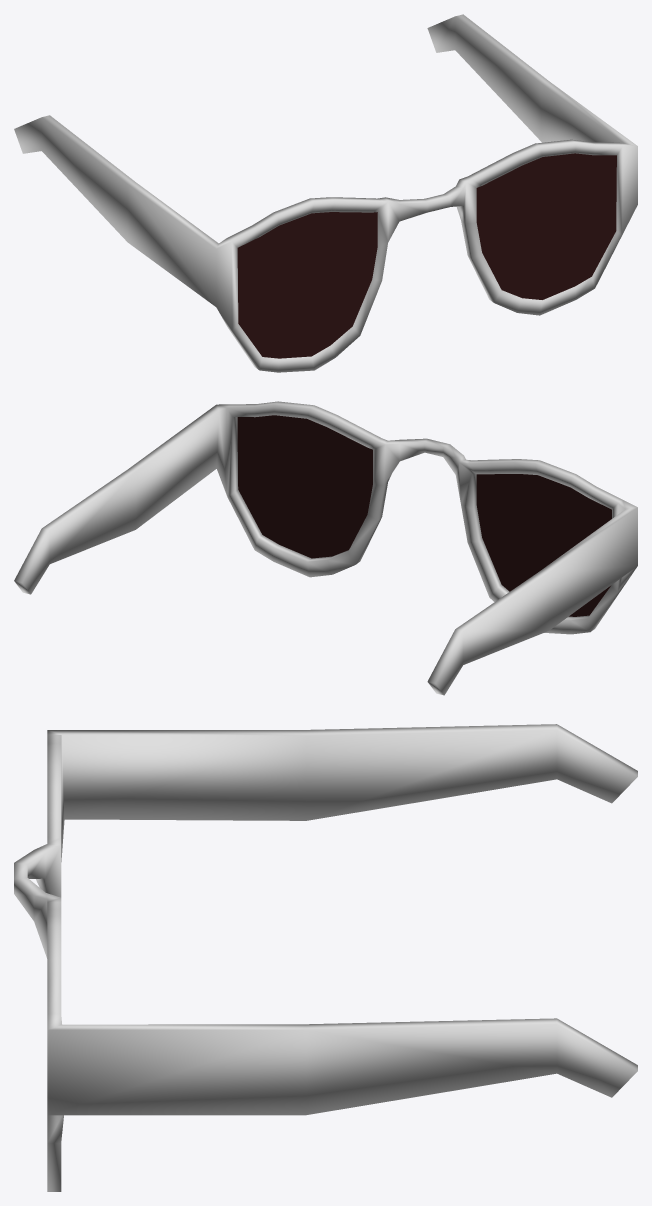
Rendered from SM_MercadonaGlasses_00.fbx.
3 renders of one model, top to bottom at view 1: azimuth 30°, elevation 25°; view 2: azimuth 150°, elevation 25°; view 3: azimuth 270°, elevation 25°, orthographic. The views are drawn at different scales.
Parts seen in each view (by area): view 1: SM_MercadonaGlasses_00; view 2: SM_MercadonaGlasses_00; view 3: SM_MercadonaGlasses_00.
Boxes of the visible parts, x1,y1,x2,y2 form: SM_MercadonaGlasses_00: (14,14,637,372); SM_MercadonaGlasses_00: (14,401,637,695); SM_MercadonaGlasses_00: (14,724,637,1191).
Size of the model in its own units: 29.56 by 11.3 by 25.97.
